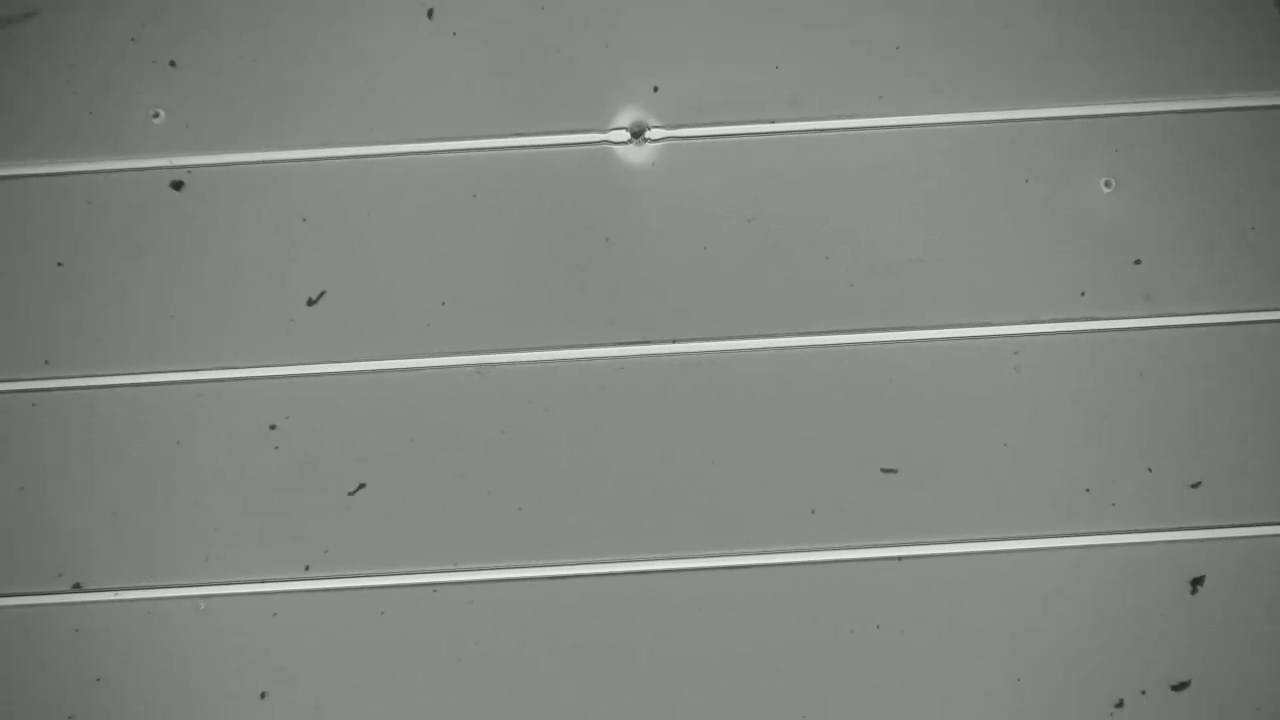stains_enbedded: (618, 110, 665, 157)
